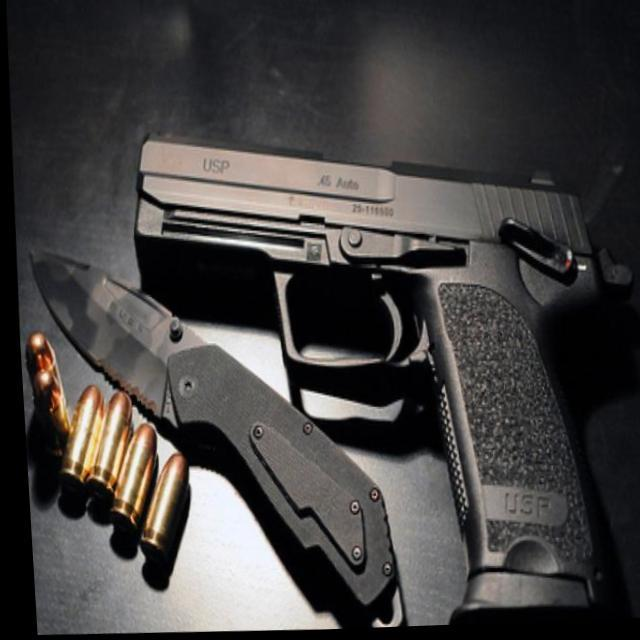weapon: (119, 104, 640, 637), (17, 233, 410, 640)
